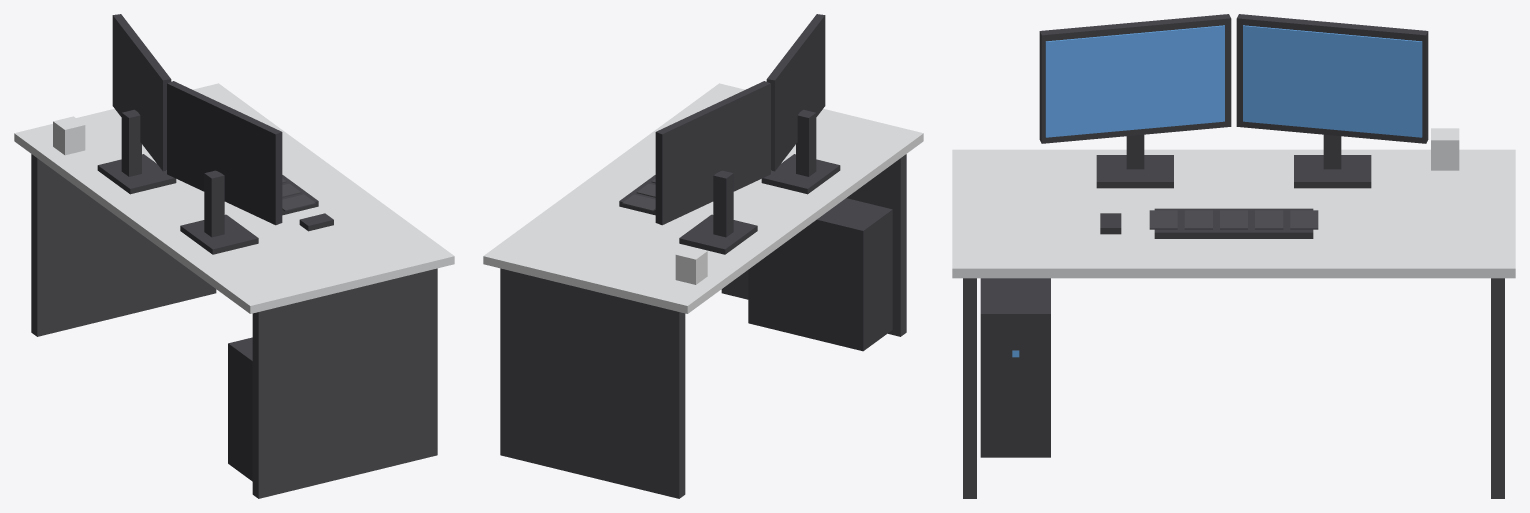
The model's file is SM_Prop_PC.glb.
3 renders of one model, left to right at view 1: azimuth 30°, elevation 25°; view 2: azimuth 150°, elevation 25°; view 3: azimuth 270°, elevation 25°, orthographic. The views are drawn at different scales.
Parts seen in each view (by area): view 1: SM_Prop_PC; view 2: SM_Prop_PC; view 3: SM_Prop_PC.
Part boxes in pixels (x1=…): SM_Prop_PC: x1=14, y1=14, x2=454, y2=498; SM_Prop_PC: x1=483, y1=14, x2=923, y2=498; SM_Prop_PC: x1=952, y1=14, x2=1515, y2=498.
Bounding box in the file's own units: 0.8 × 1.23 × 1.6.
